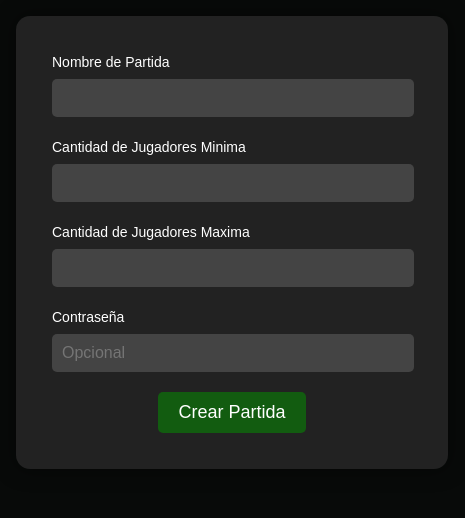
Test: CreateGame › should send the form when the inputs are valid
Type "Juego 123" into the field named "lobby_name" at (233, 98), box [52,79,414,117]
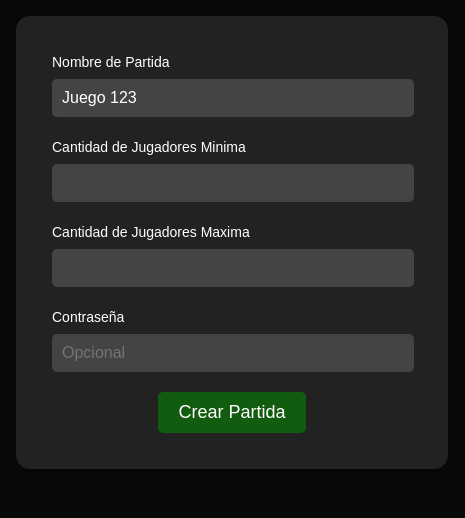
Type "4" into the number field named "min_players" at (233, 183), box [52,164,414,202]
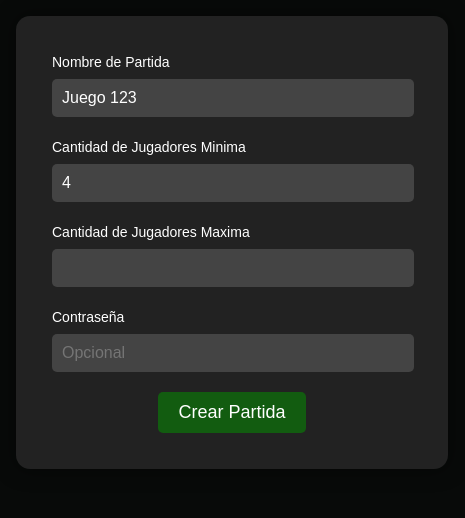
Type "4" into the number field named "max_players" at (233, 268), box [52,249,414,287]
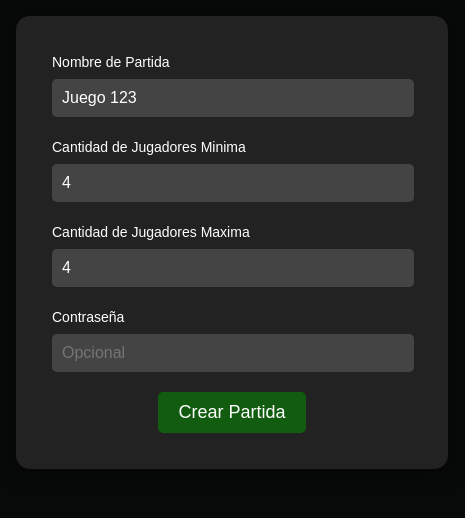
Click the button at (232, 412), box [158,392,306,433]
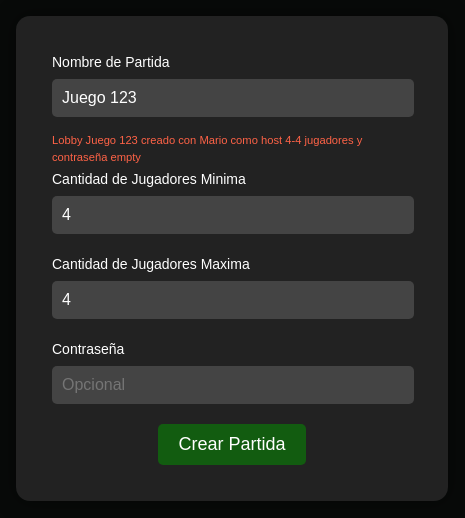
Check: the text "Lobby Juego 123 creado con Mario como host 4-4 jugadores y contraseña empty" is shown, box [52,132,412,166]
